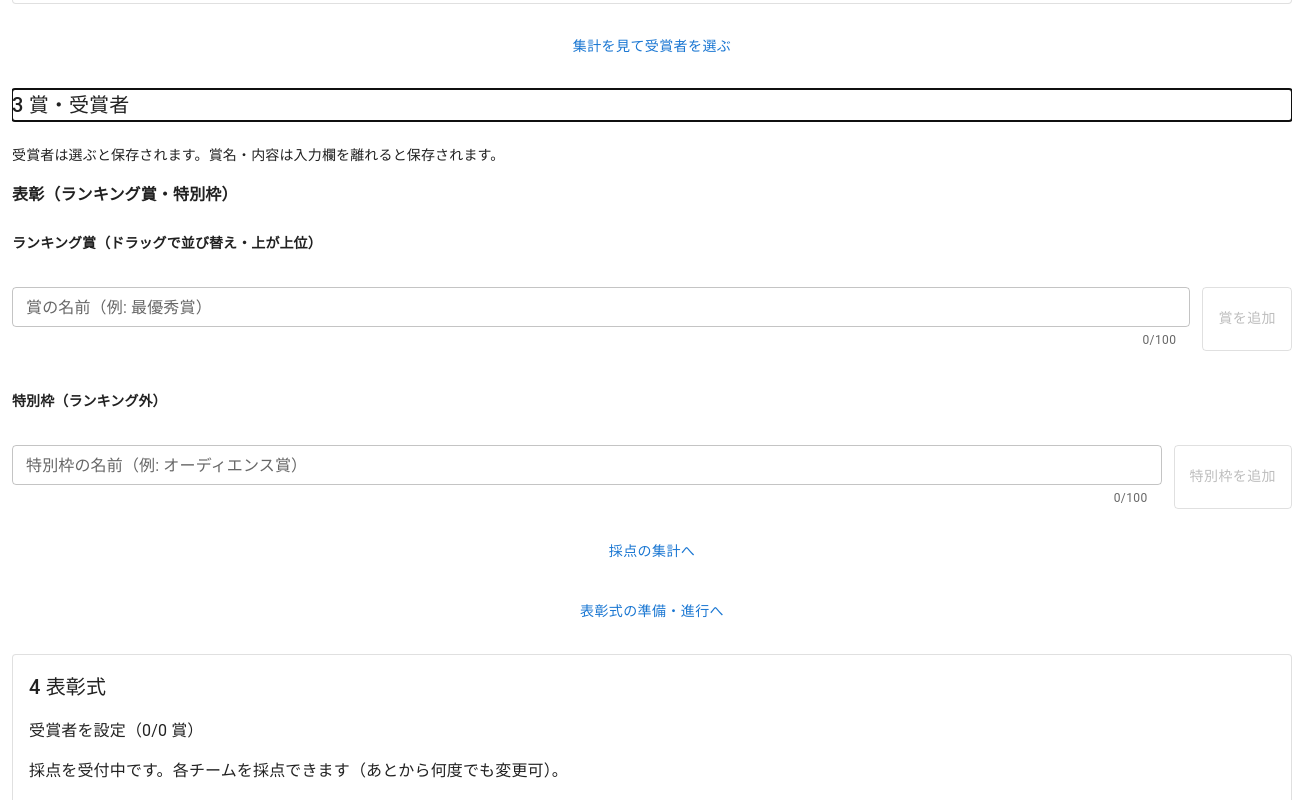
Test case: a failed award creation retains the name, while no awards prevents ceremony switching
(page scrolled)
Type "新しい賞" into the field labelled "賞の名前（例: 最優秀賞）".
click(601, 307); type("新しい賞")  # box 12,287 -> 1190,327
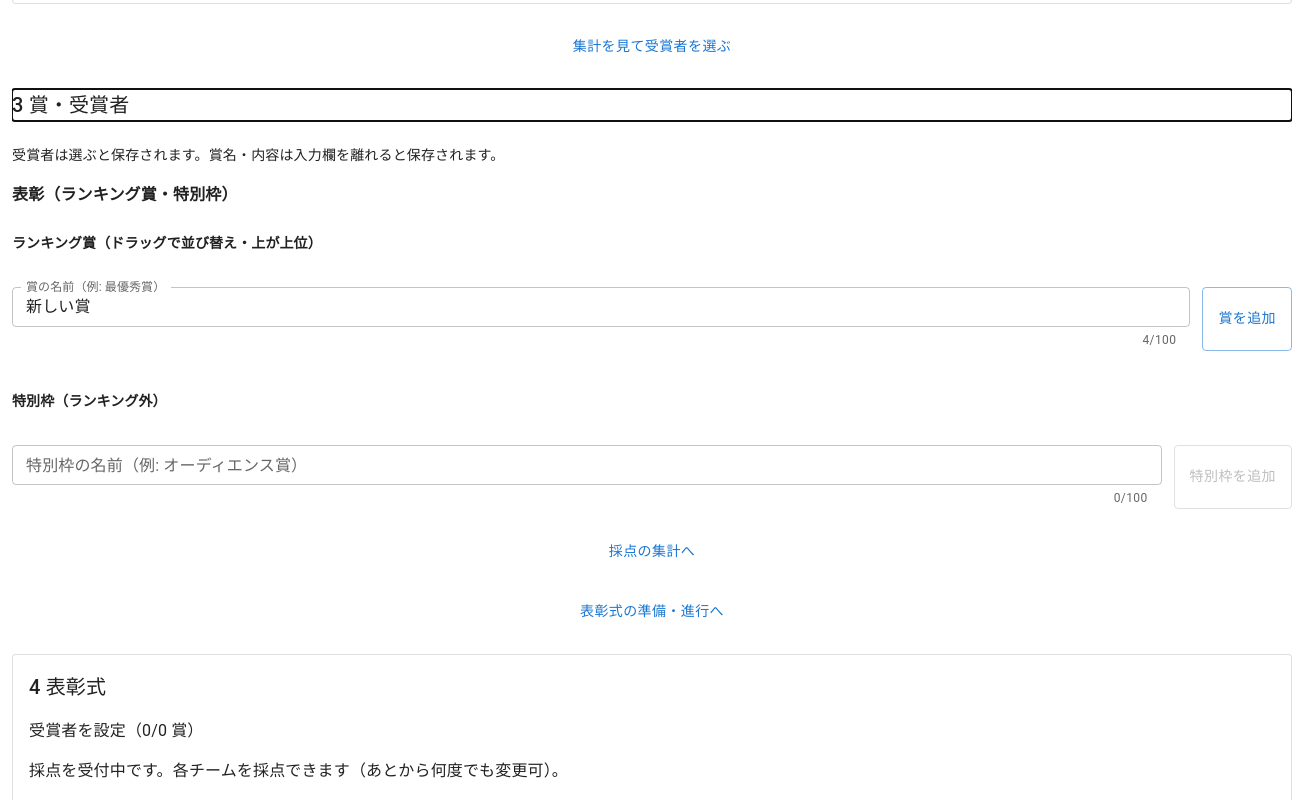
Click the button "賞を追加".
click(1247, 319)  # box 1202,287 -> 1292,351
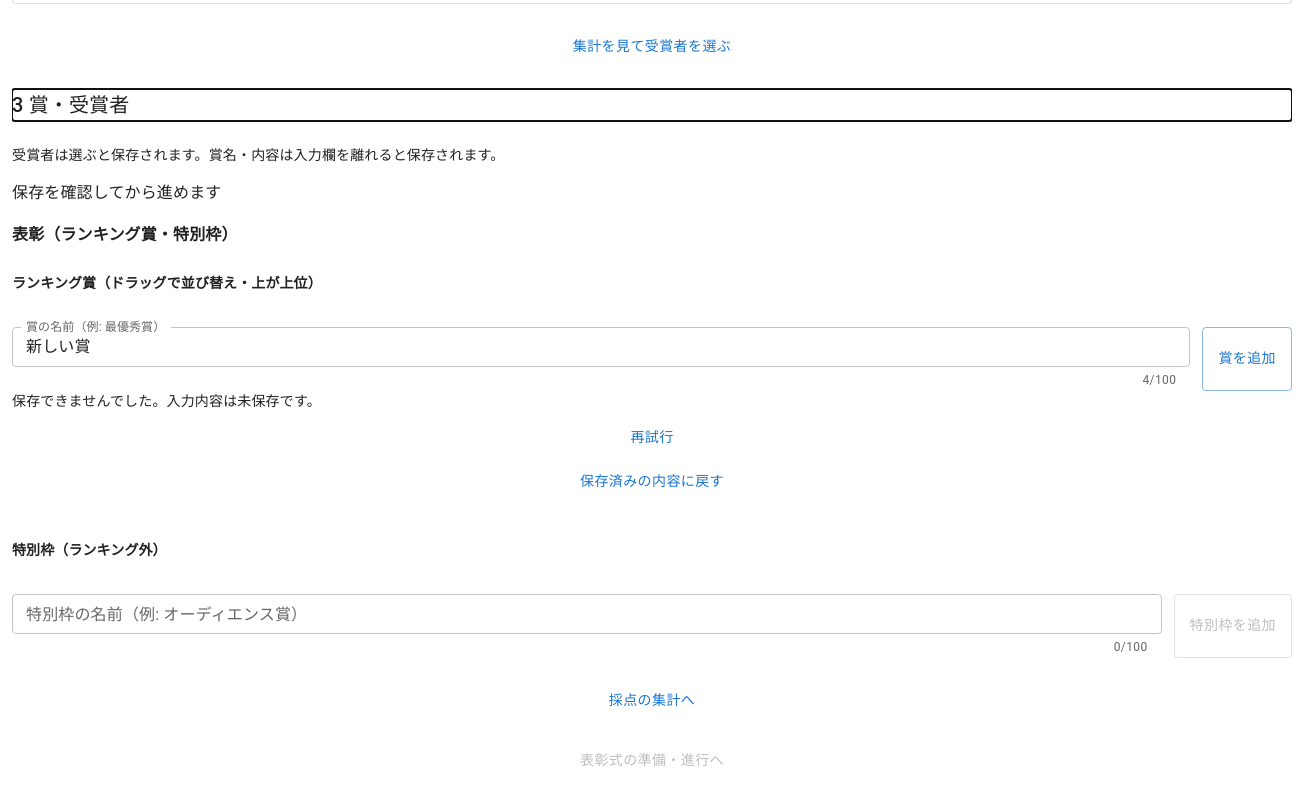
Result: the text "保存できませんでした。入力内容は未保存です。" is shown at 12,393 -> 321,409
